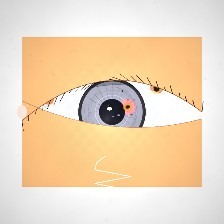foreign_body_visible: (135, 70, 178, 105)
